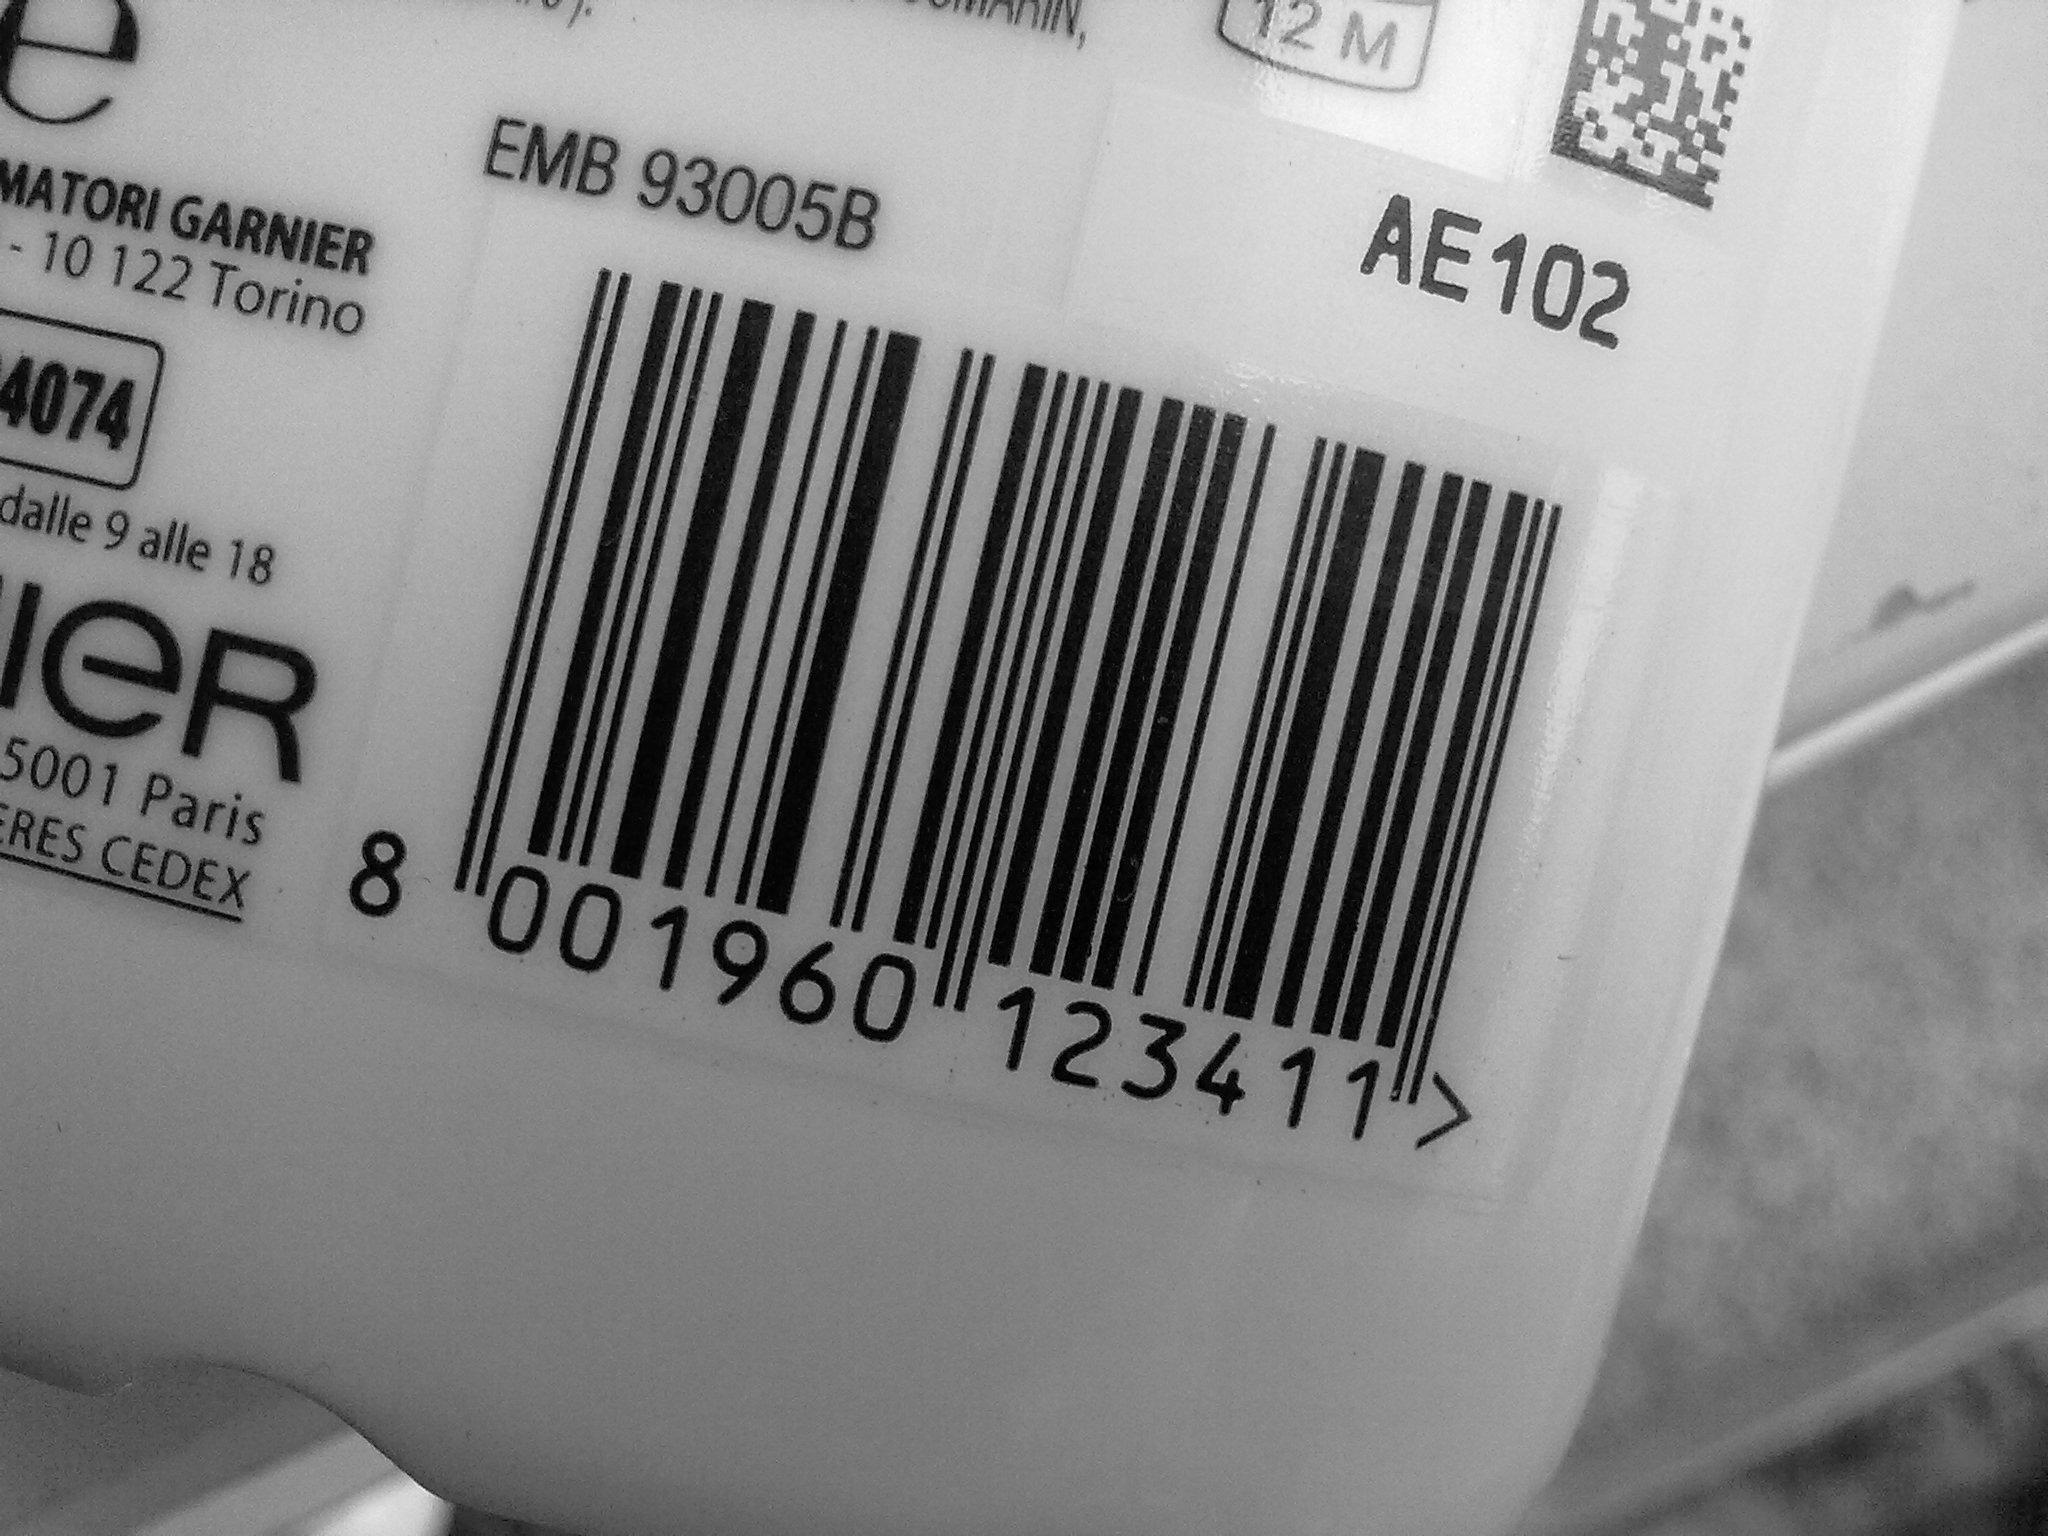Barcode: (411, 210, 1583, 1115)
